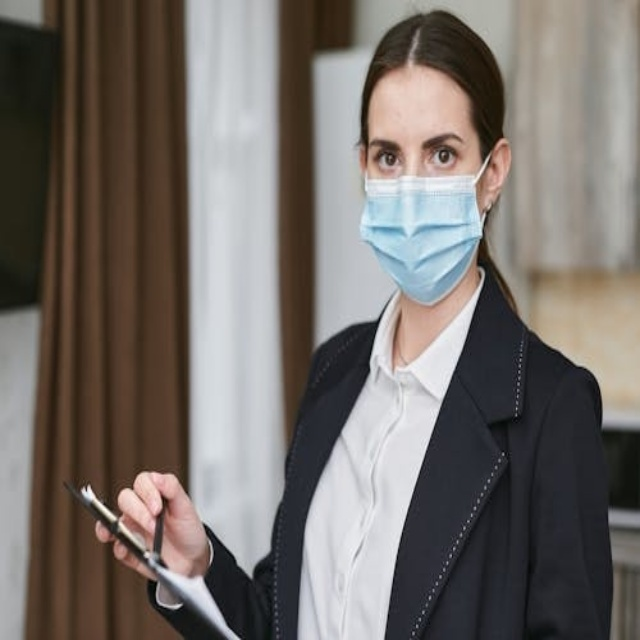Mascara: (360, 150, 491, 304)
Sin_gafas: (366, 125, 470, 171)
Sin_guantes: (91, 468, 210, 582)
